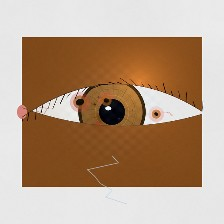foreign_body_visible: (80, 117, 116, 146)
